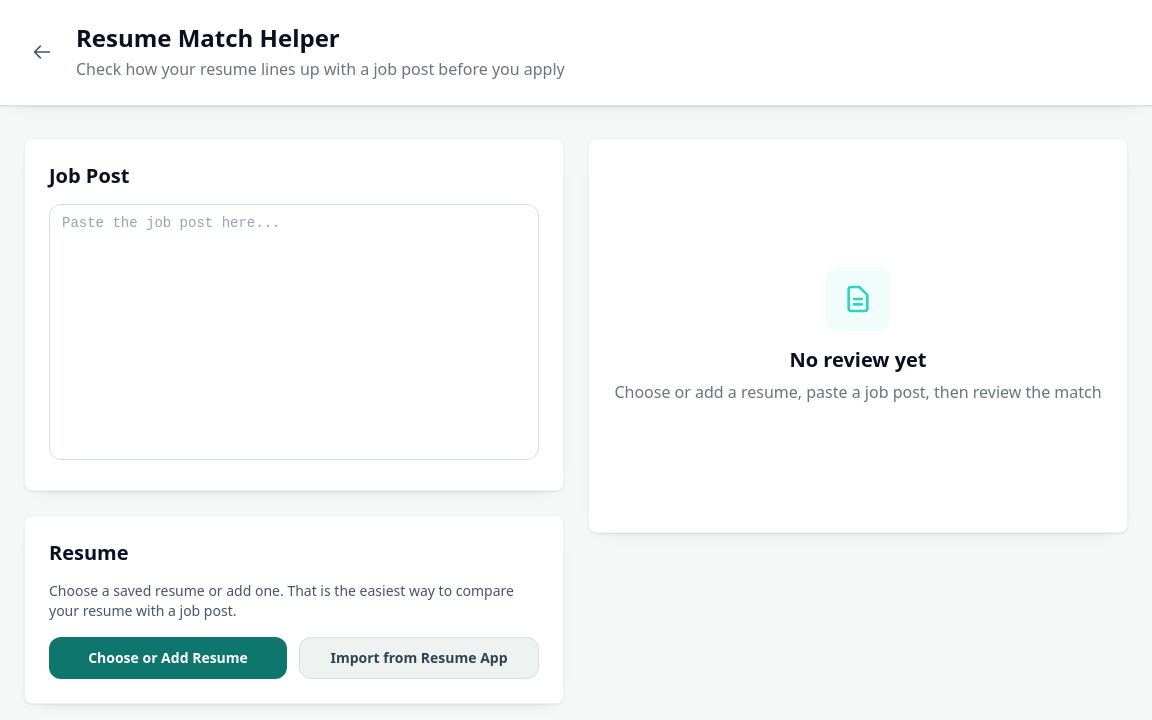
Test: ResumeMatch › exposes named back and bullet draft controls
Click the button named "back to dashboard". click: x=42, y=52
box: [24,34,60,70]
(page scrolled)
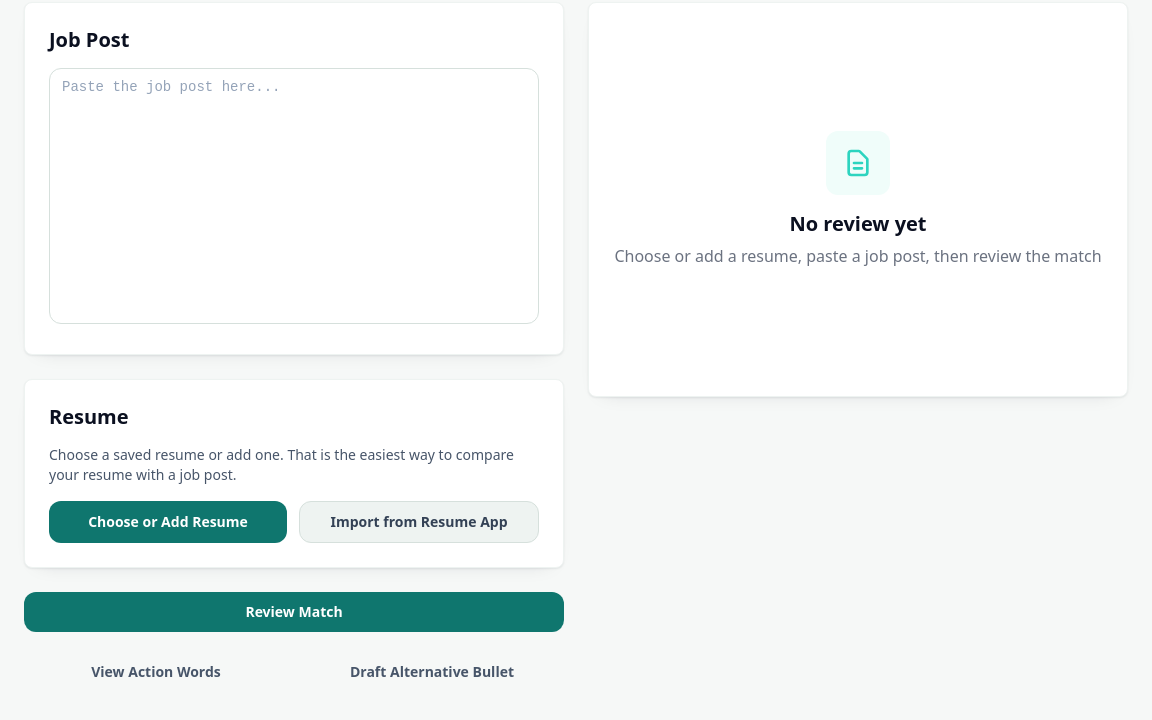
Click the button "Draft Alternative Bullet". click: x=432, y=672
box: [300,656,564,688]
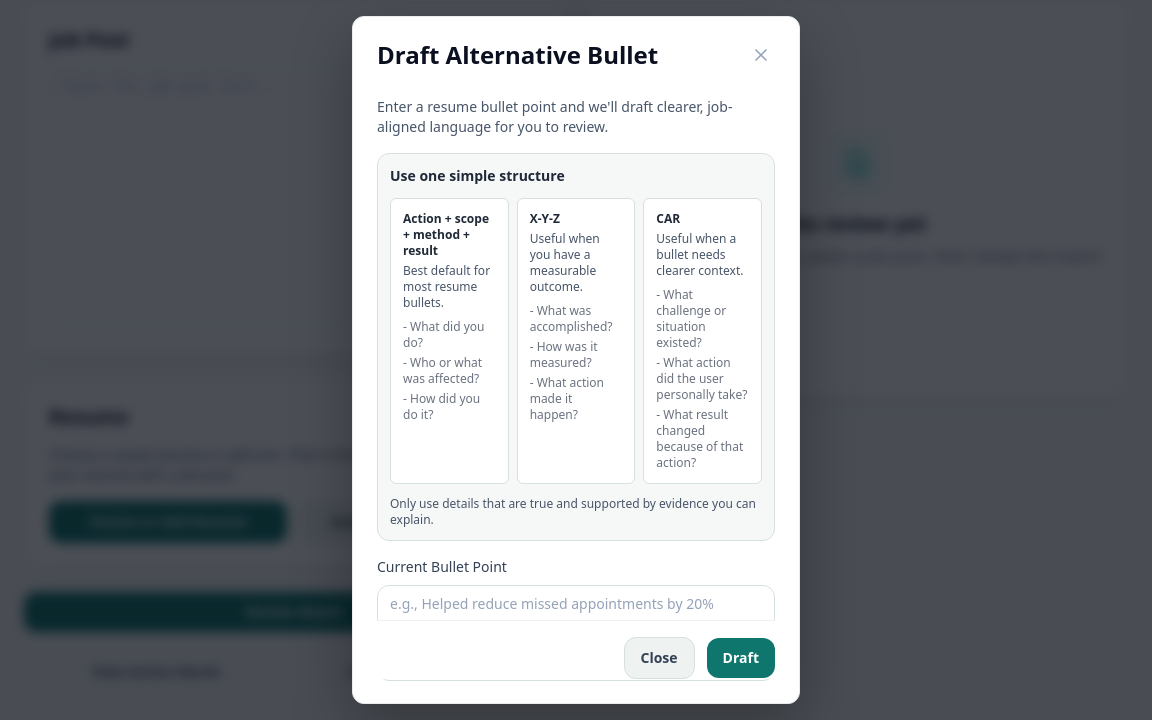
Check: the text box labelled "Current Bullet Point" is shown, box [377,585,775,681]
